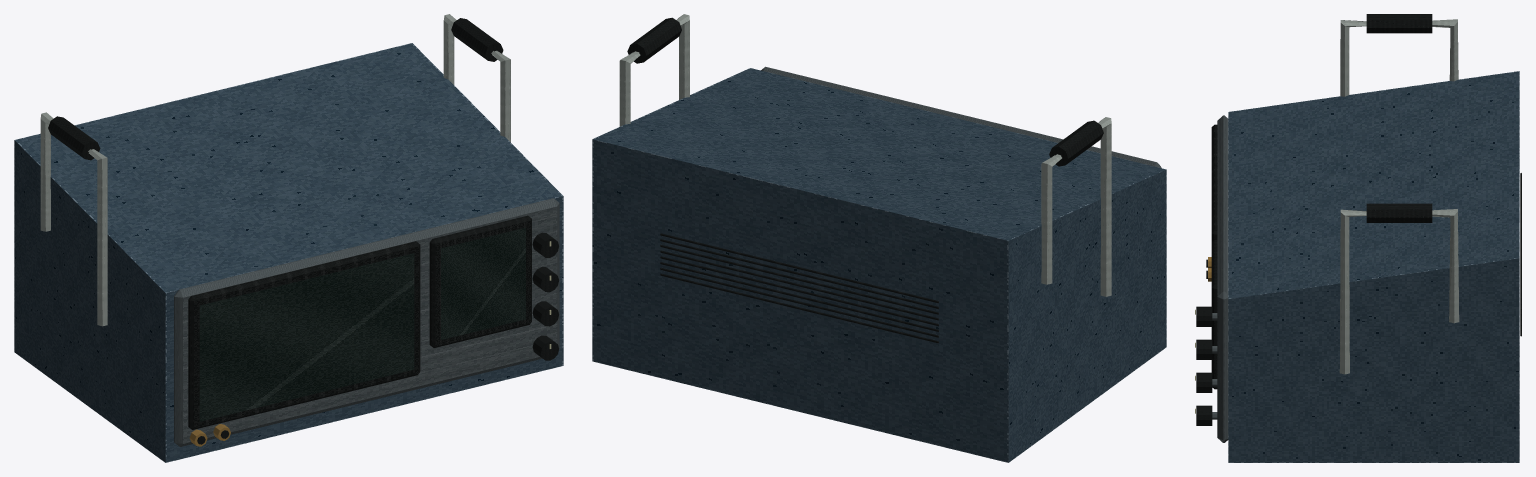
Rendered from blender_spectral_frequency_analyzer_3.glb.
3 renders of one model, left to right at view 1: azimuth 30°, elevation 25°; view 2: azimuth 150°, elevation 25°; view 3: azimuth 270°, elevation 25°, orthographic. The views are drawn at different scales.
Visible parts, largest first — view 1: blender_spectral_frequency_analyzer_3; view 2: blender_spectral_frequency_analyzer_3; view 3: blender_spectral_frequency_analyzer_3.
Part boxes in pixels (box(x1,y1,x2,y2)): blender_spectral_frequency_analyzer_3: box(14, 14, 563, 462); blender_spectral_frequency_analyzer_3: box(592, 14, 1166, 462); blender_spectral_frequency_analyzer_3: box(1195, 14, 1521, 462).
Bounding box in the file's own units: 0.322 × 0.197 × 0.2243.
Materials: 7 (7 with a texture image).
